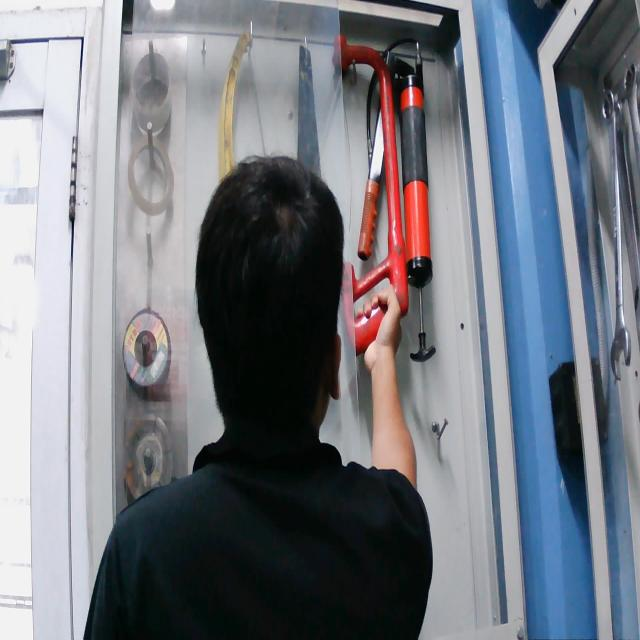gergaji_besi: (332, 29, 412, 358)
